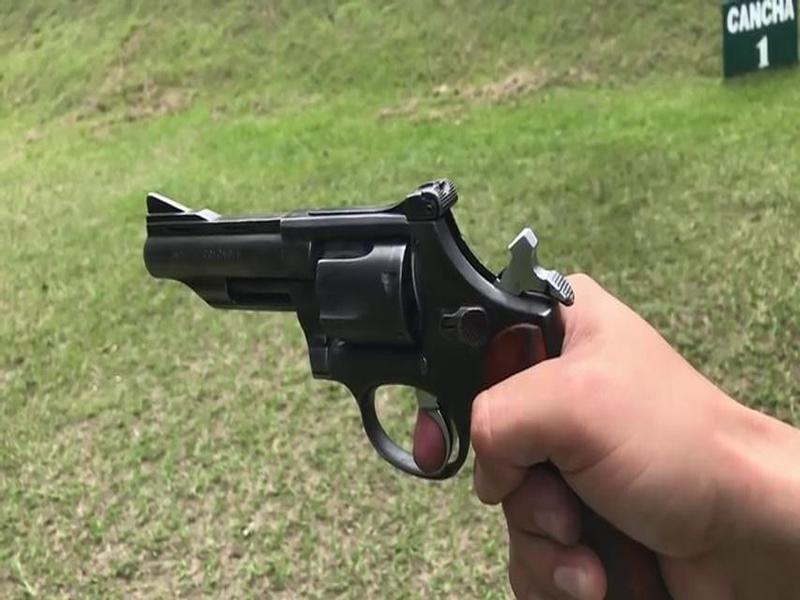Revolver: (126, 168, 621, 516)
